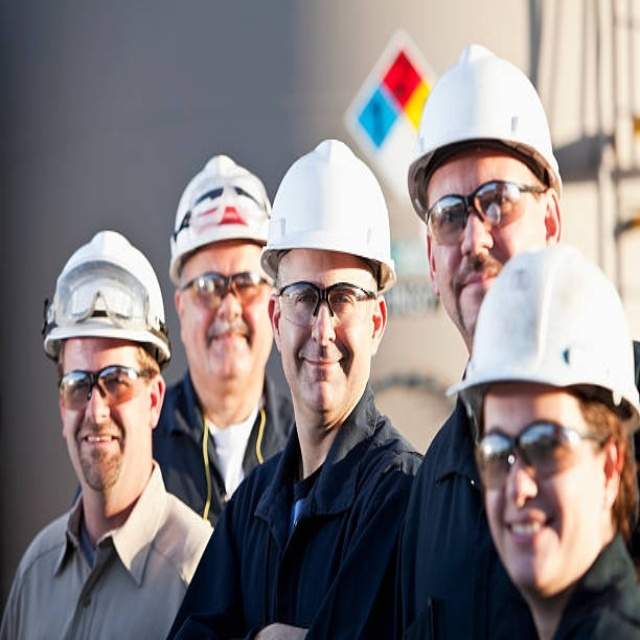Gafas: (428, 176, 546, 246), (474, 420, 600, 478), (275, 273, 373, 329), (59, 361, 156, 411), (180, 268, 265, 304)
Sin_mascara: (497, 502, 550, 560), (456, 257, 503, 318), (295, 347, 345, 397), (203, 322, 252, 369), (75, 425, 121, 475)
